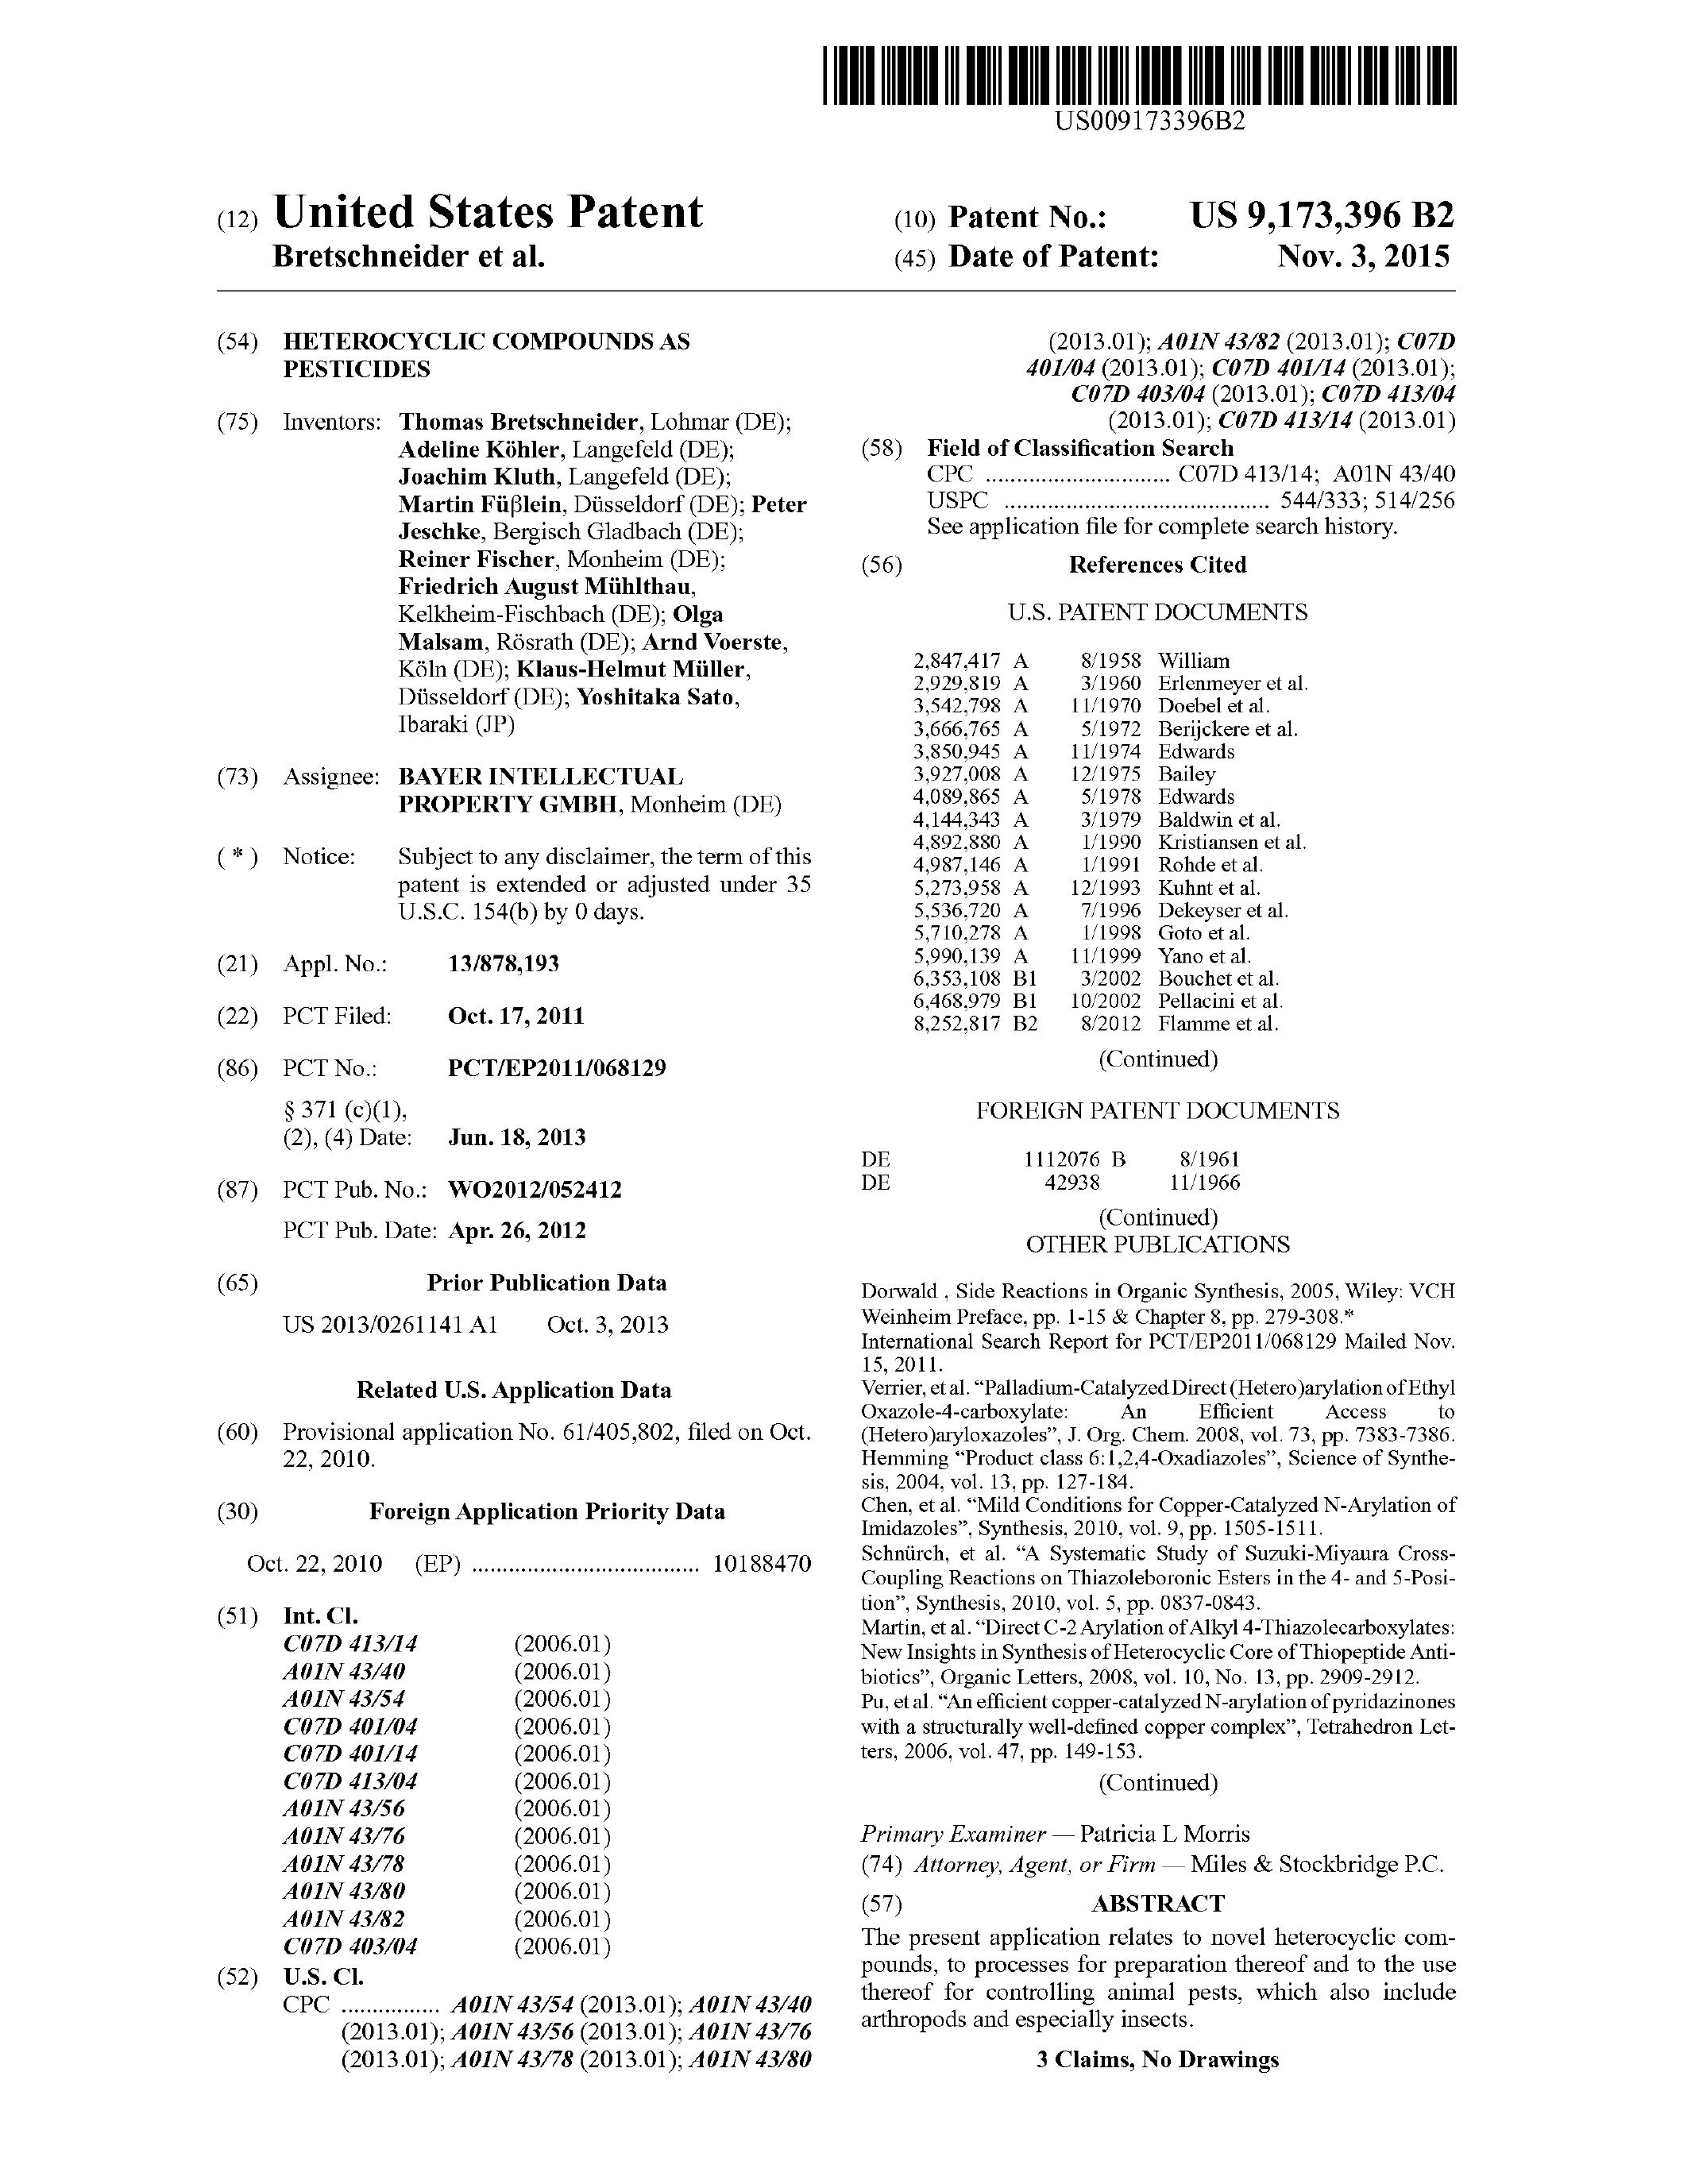reactions: (853, 1377, 1585, 1759)
